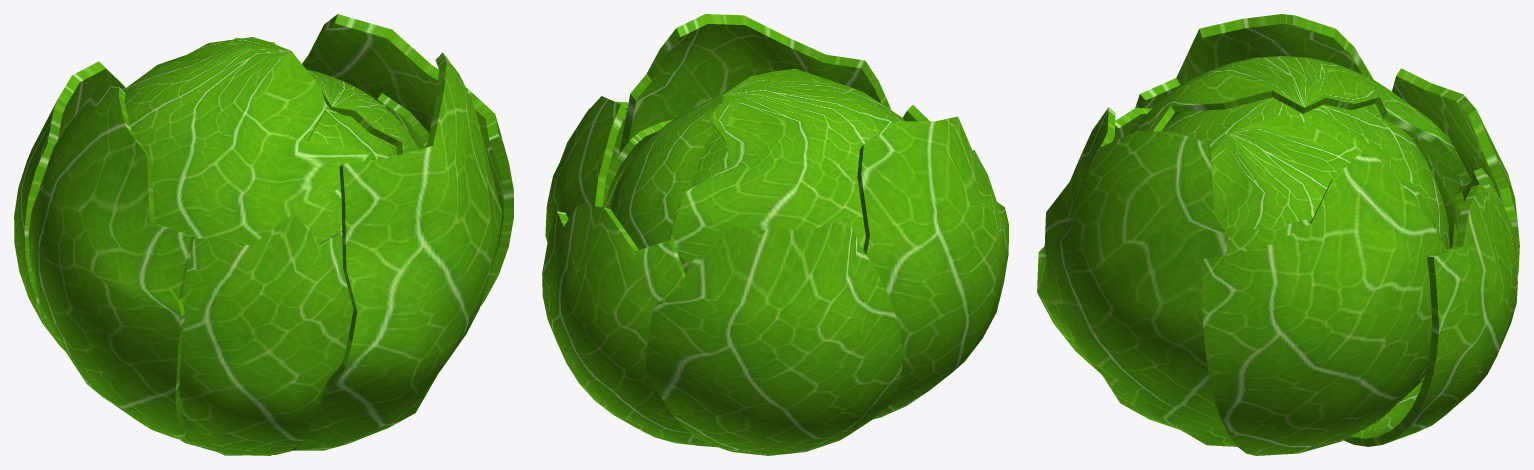
Rendered from lettuce.fbx.
3 renders of one model, left to right at view 1: azimuth 30°, elevation 25°; view 2: azimuth 150°, elevation 25°; view 3: azimuth 270°, elevation 25°, orthographic. The views are drawn at different scales.
Parts seen in each view (by area): view 1: pSphere10, pSphere11, pSphere13, pSphere12, pSphere6, pSphere5, pSphere14, pSphere4, pSphere7, pSphere9; view 2: pSphere5, pSphere11, pSphere13, pSphere8, pSphere10, pSphere14, pSphere6, pSphere4, pSphere7; view 3: pSphere6, pSphere10, pSphere8, pSphere13, pSphere14, pSphere11, pSphere4, pSphere5, pSphere7, pSphere12.
Part boxes in pixels (<box>): pSphere10: <box>291,52,502,450</box>; pSphere11: <box>28,80,194,444</box>; pSphere13: <box>123,37,371,245</box>; pSphere12: <box>179,214,353,455</box>; pSphere6: <box>302,14,513,305</box>; pSphere5: <box>14,61,125,350</box>; pSphere14: <box>307,70,420,155</box>; pSphere4: <box>308,103,397,232</box>; pSphere7: <box>377,93,429,148</box>; pSphere9: <box>181,415,277,455</box>; pSphere5: <box>646,217,903,455</box>; pSphere11: <box>857,116,1008,419</box>; pSphere13: <box>670,68,905,264</box>; pSphere8: <box>542,204,717,447</box>; pSphere10: <box>618,14,891,155</box>; pSphere14: <box>608,92,726,249</box>; pSphere6: <box>545,96,628,242</box>; pSphere4: <box>669,126,730,274</box>; pSphere7: <box>602,119,673,208</box>; pSphere6: <box>1202,149,1446,455</box>; pSphere10: <box>1037,107,1236,446</box>; pSphere8: <box>1343,167,1517,446</box>; pSphere13: <box>1129,56,1471,248</box>; pSphere14: <box>1211,108,1440,238</box>; pSphere11: <box>1135,14,1373,108</box>; pSphere4: <box>1161,97,1450,249</box>; pSphere5: <box>1392,68,1519,400</box>; pSphere7: <box>1225,218,1312,255</box>; pSphere12: <box>1112,108,1152,141</box>.
Bounding box in the file's own units: 5.23 × 4.26 × 5.23.
1 material, 1 textured.
